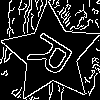R: (26, 29, 82, 85)
